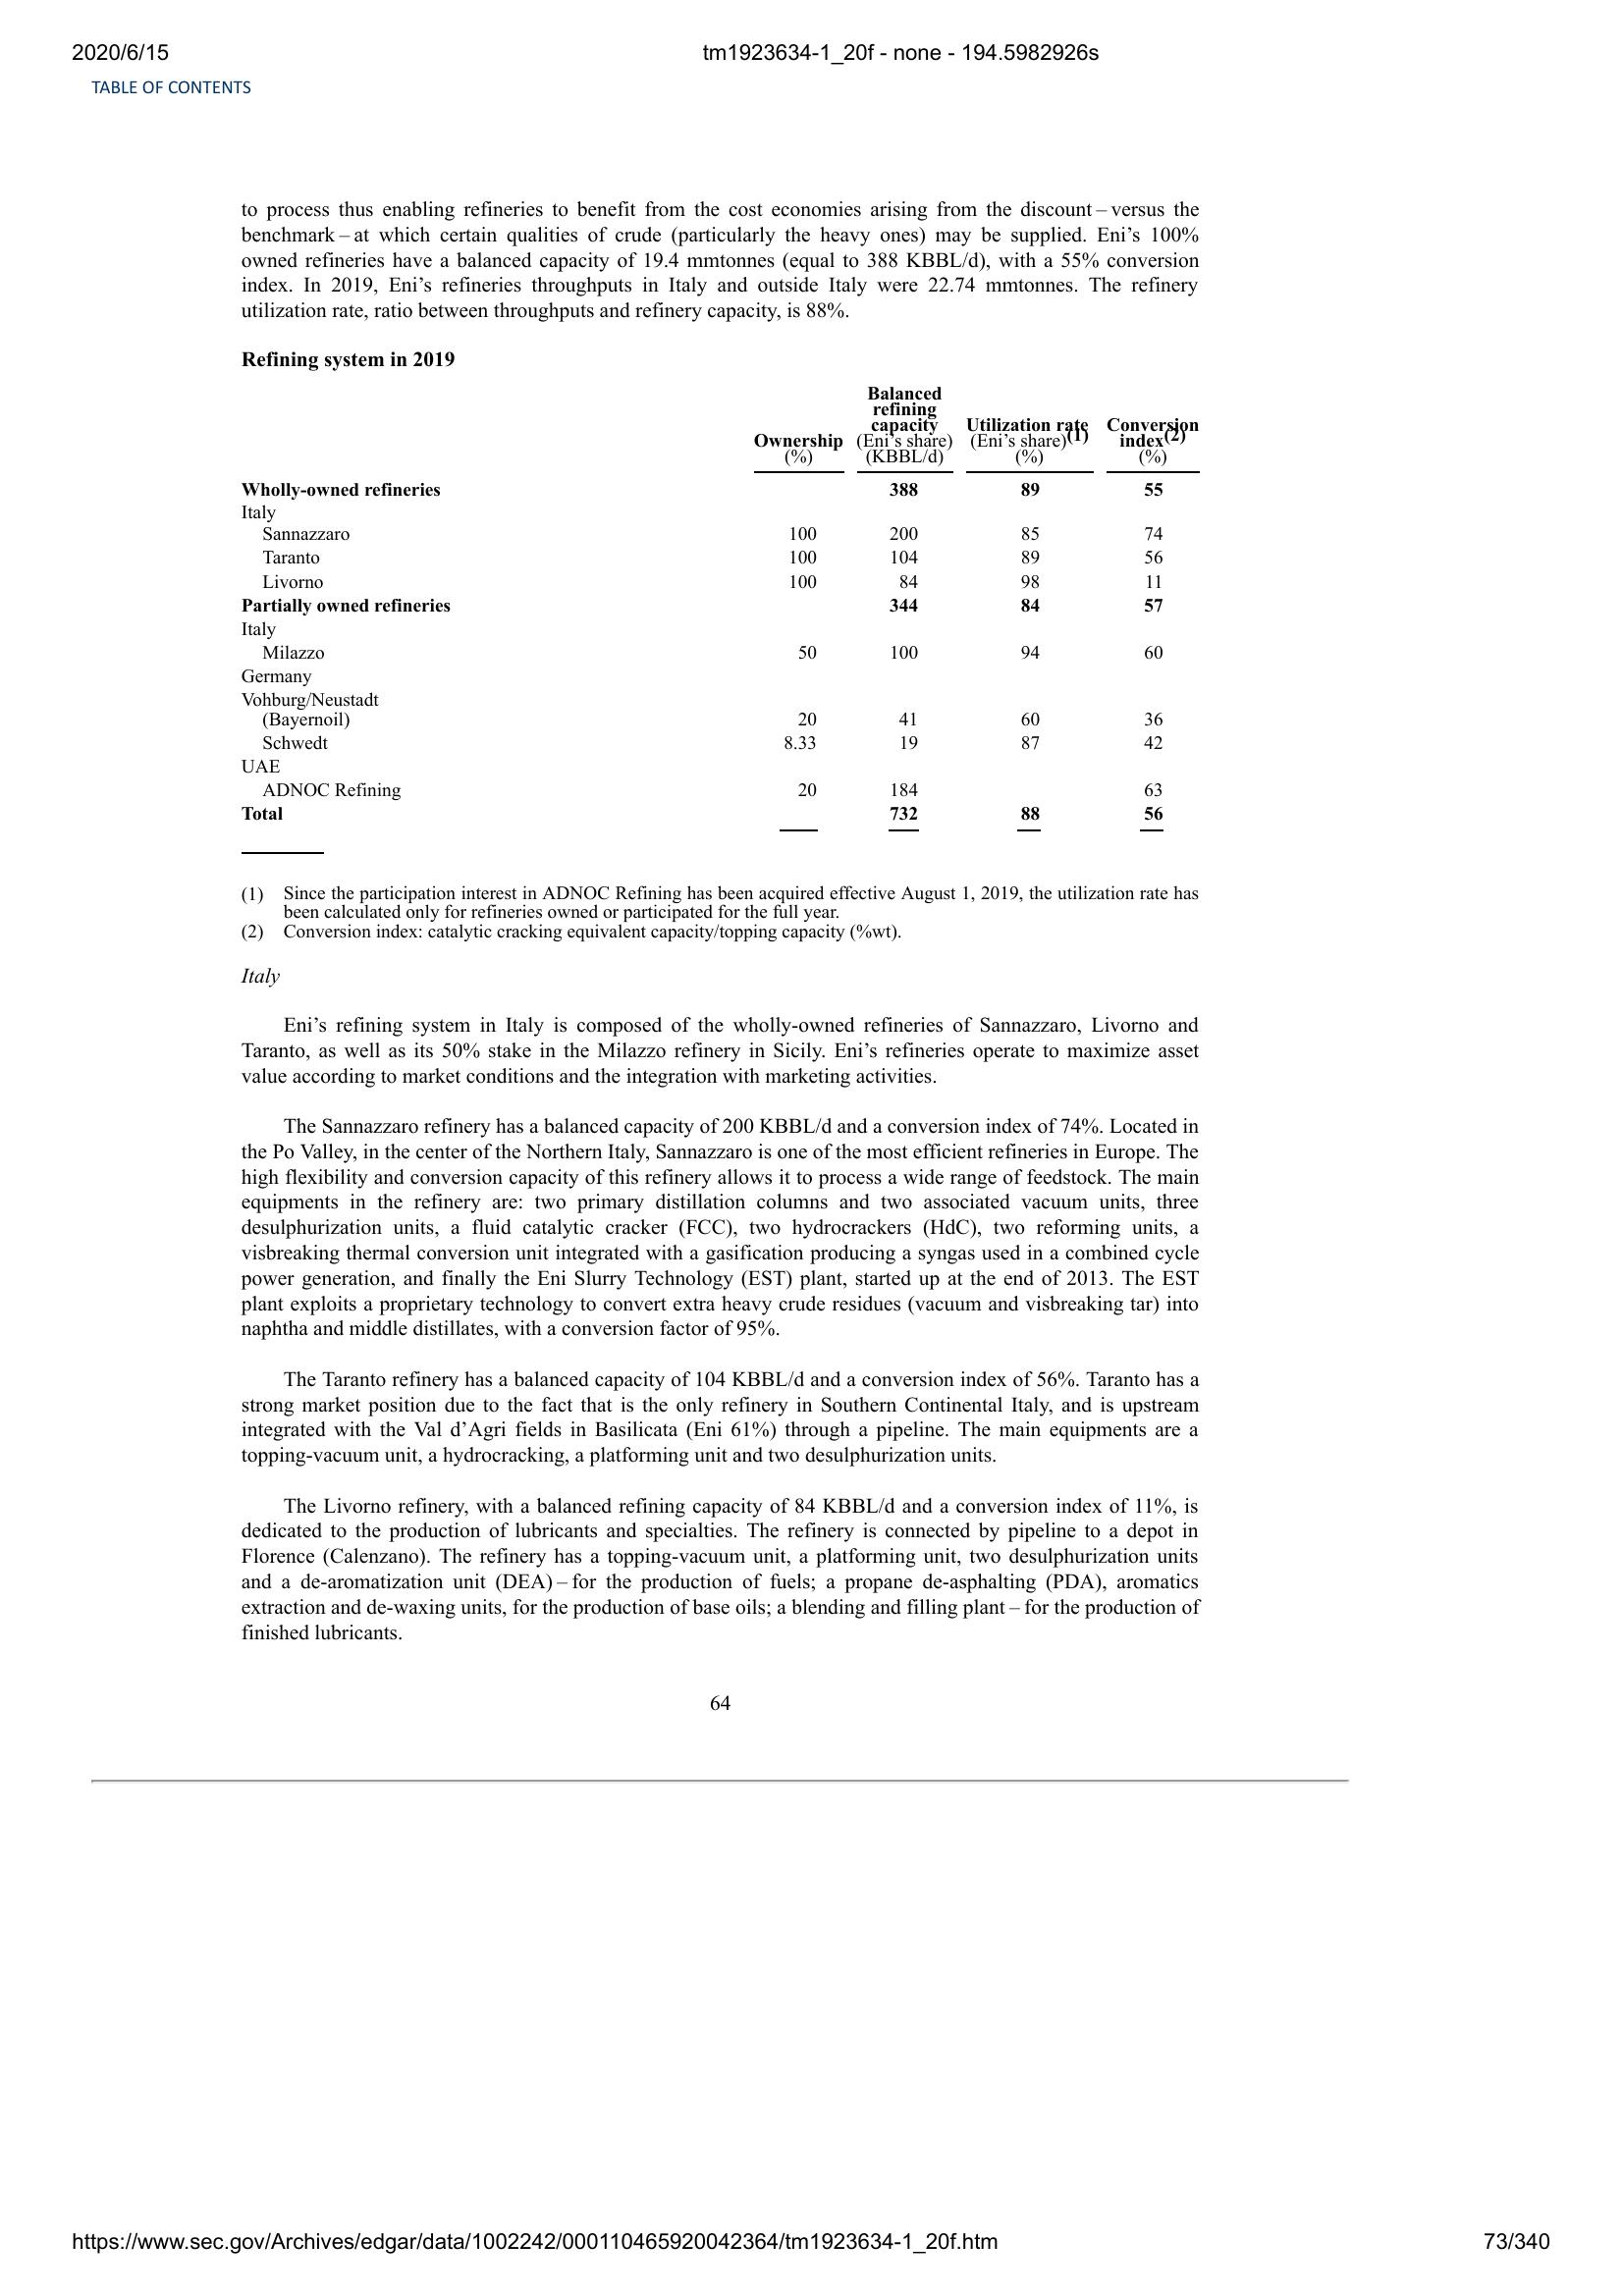table: (234, 381, 1205, 843)
